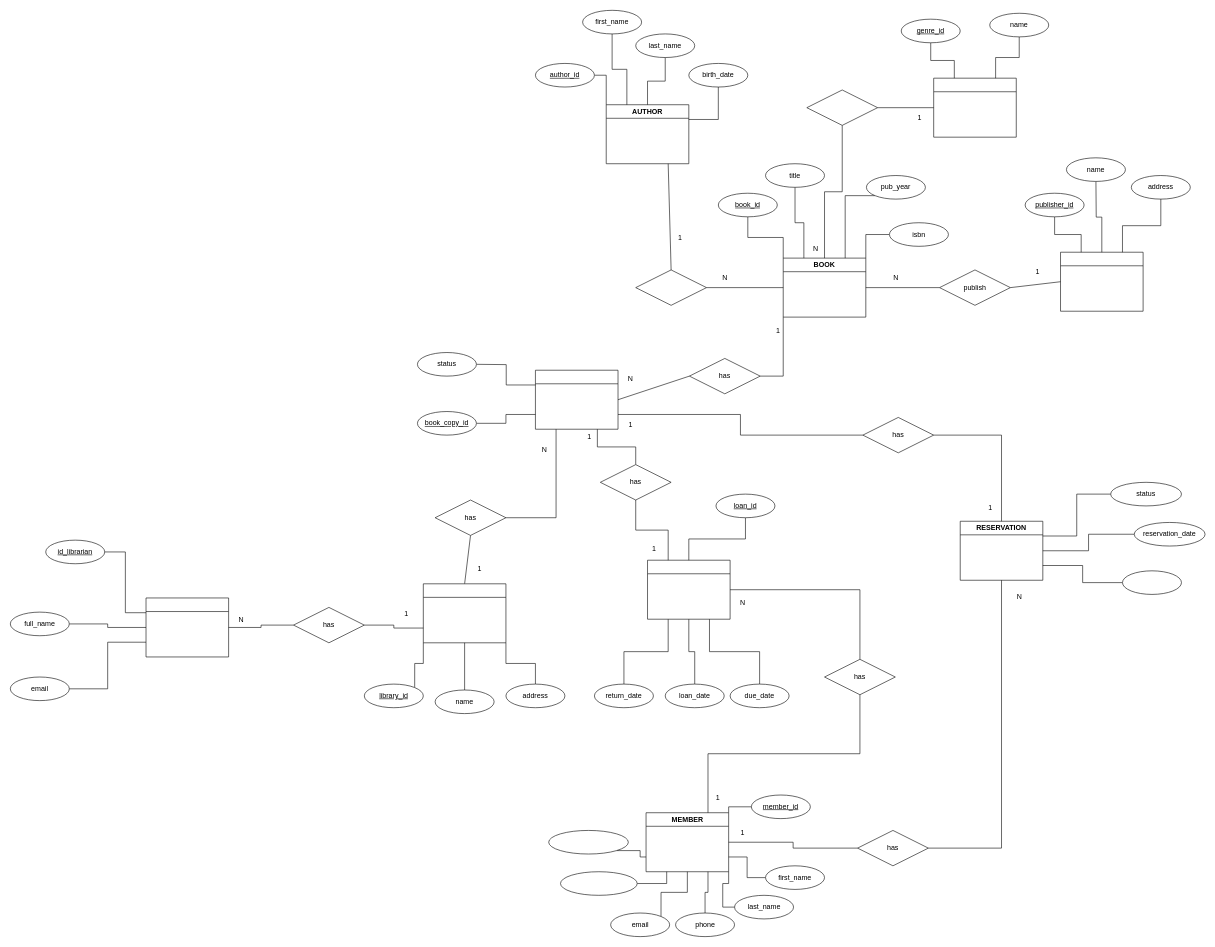
The diagram is 1215 pixels wide and 947 high, and some of its shapes have lost their labels. Here are the shapes that lost their labels. From the top down, the centre of each, then its label:
At [842,107]: "related".
At [974,107]: "GENRE".
At [671,287]: "write".
At [1101,281]: "PUBLISHER".
At [576,399]: "BOOK_COPY".
At [688,589]: "LOAN".
At [1151,582]: "reservation_id".
At [187,627]: "LIBRARIAN".
At [464,613]: "LIBRARY".
At [588,842]: "membership_end".
At [598,883]: "membership_start".
